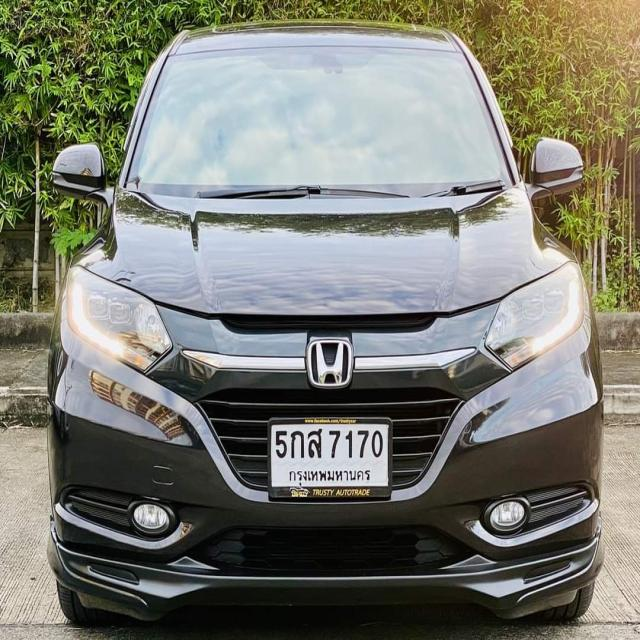license_plate: (266, 418, 393, 501)
